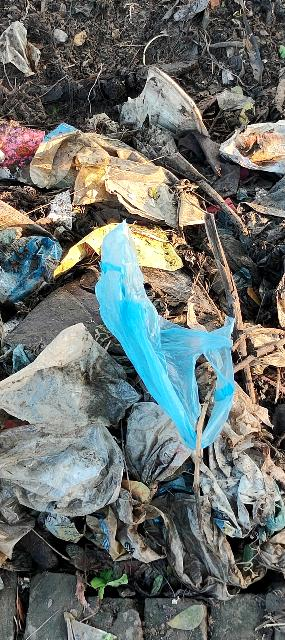polythene: (24, 191, 285, 475)
